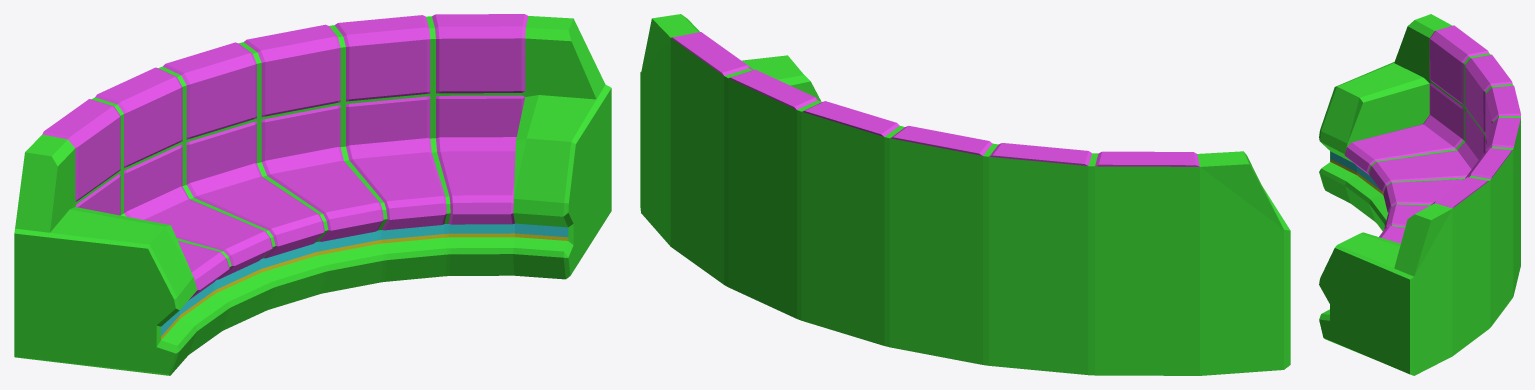
The model's file is Chair_11_C.fbx.
3 views of the same model, side by side, from view 1: azimuth 30°, elevation 25°; view 2: azimuth 150°, elevation 25°; view 3: azimuth 270°, elevation 25° (orthographic). The views are drawn at different scales.
Visible parts, largest first — view 1: Chair_11_C; view 2: Chair_11_C; view 3: Chair_11_C.
Boxes of the visible parts, x1=… form: Chair_11_C: x1=14, y1=14, x2=611, y2=375; Chair_11_C: x1=640, y1=14, x2=1290, y2=375; Chair_11_C: x1=1319, y1=14, x2=1520, y2=375.
Size of what is drawn, in the model's own units: 337 by 104 by 128.
